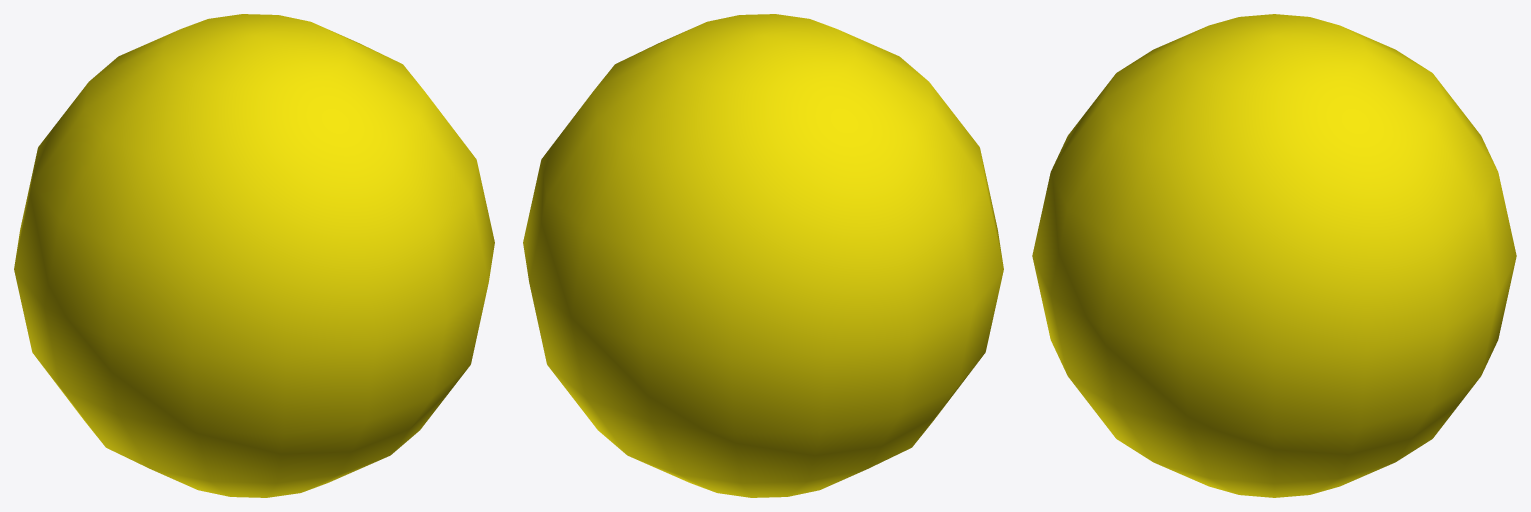
File: 00_Sol.gltf
3 views of the same model, side by side, from view 1: azimuth 30°, elevation 25°; view 2: azimuth 150°, elevation 25°; view 3: azimuth 270°, elevation 25° (orthographic).
Parts seen in each view (by area): view 1: 00_Sol; view 2: 00_Sol; view 3: 00_Sol.
Boxes of the visible parts, left/top/right/bottom form: 00_Sol: left=14, top=14, right=494, bottom=497; 00_Sol: left=523, top=14, right=1003, bottom=497; 00_Sol: left=1032, top=14, right=1516, bottom=497.
Size of the model in its own units: 2.28 by 2.28 by 2.28.
Materials: 1 (1 with a texture image).
